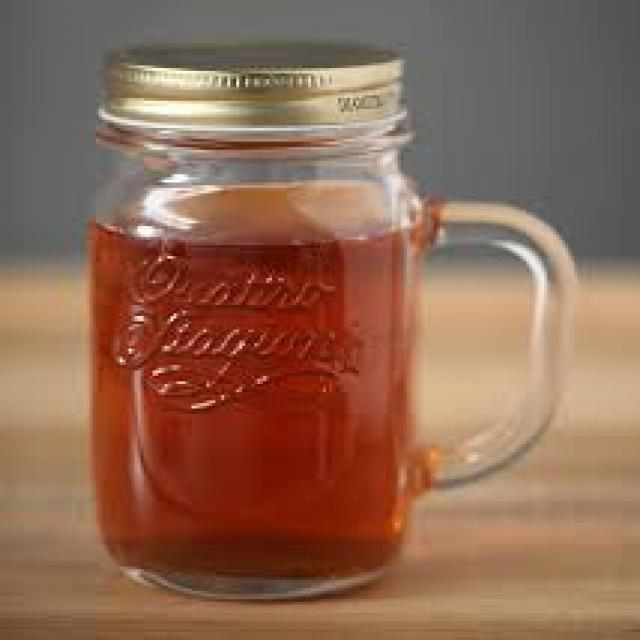organic waste: (90, 185, 406, 575)
